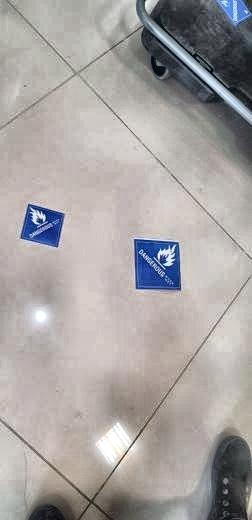dangerous-when-wet: (132, 238, 184, 293), (19, 203, 67, 248)
